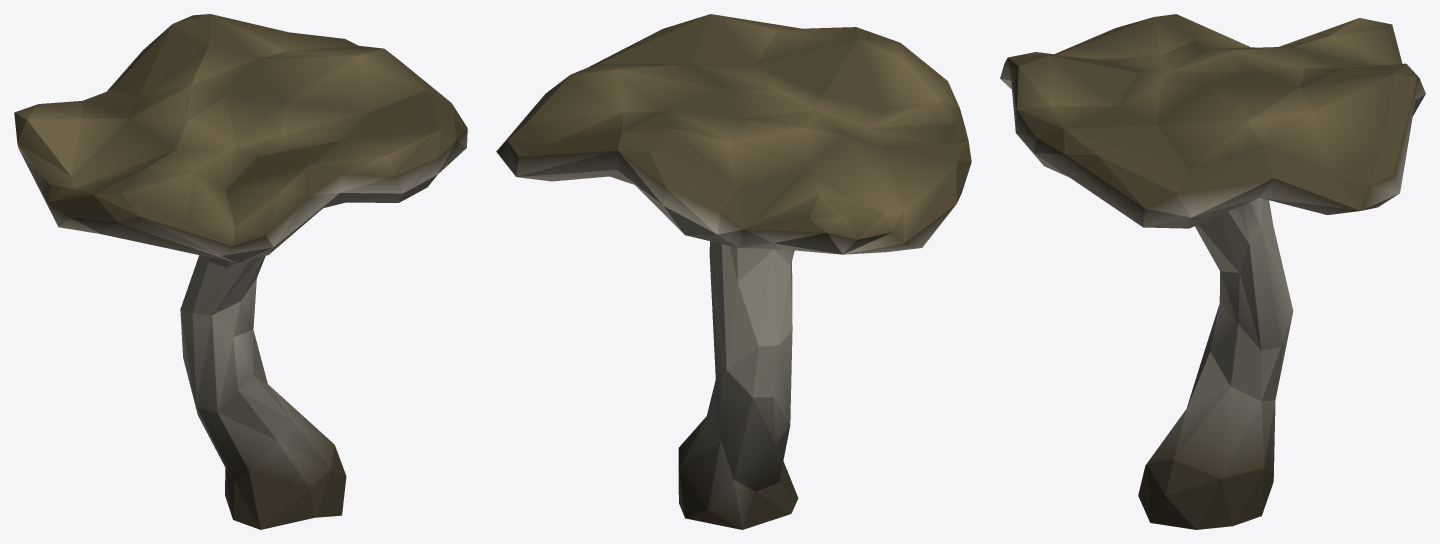
File: Mushroom4.fbx
The picture shows the model from 3 angles, left to right: view 1: azimuth 30°, elevation 25°; view 2: azimuth 150°, elevation 25°; view 3: azimuth 270°, elevation 25°; orthographic projection. The views are drawn at different scales.
Visible parts, largest first — view 1: Mushroom4; view 2: Mushroom4; view 3: Mushroom4.
Boxes of the visible parts, x1,y1,x2,y2 form: Mushroom4: (14,14,467,529); Mushroom4: (496,14,971,529); Mushroom4: (1000,14,1425,529).
Size of the model in its own units: 1543 by 1635 by 1430.
